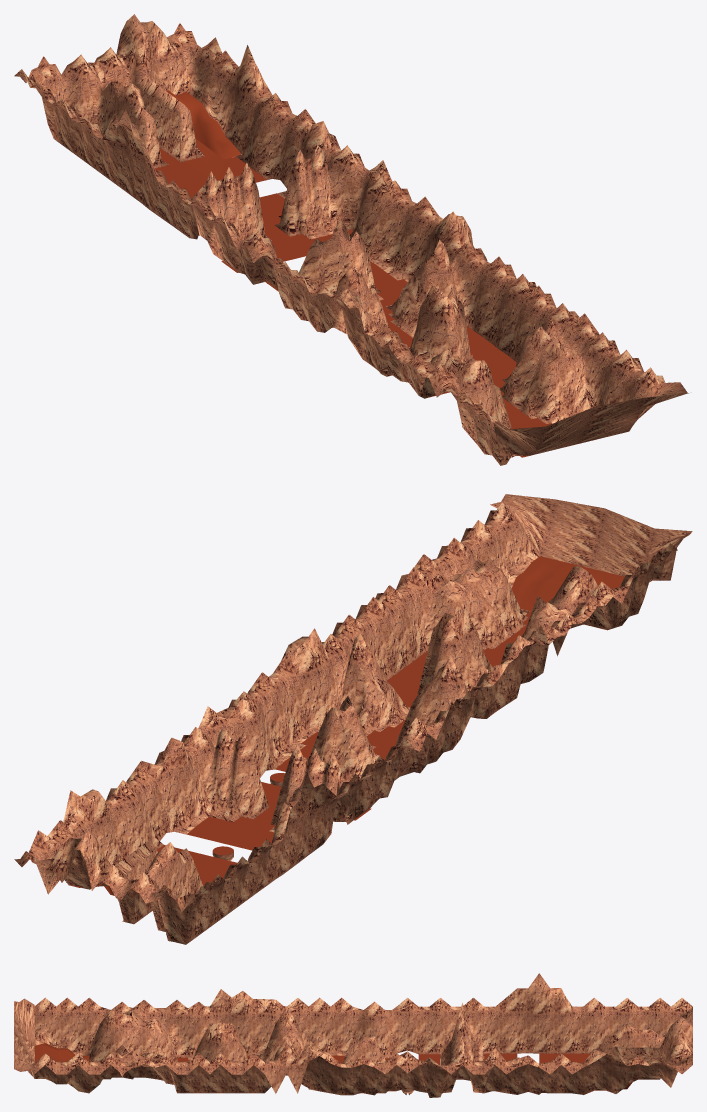
The picture shows the model from 3 angles, top to bottom: view 1: azimuth 30°, elevation 25°; view 2: azimuth 150°, elevation 25°; view 3: azimuth 270°, elevation 25°; orthographic projection. The views are drawn at different scales.
Visible parts, largest first — view 1: elevacionesMontañas, Plane002, Plane003, plat_final; view 2: elevacionesMontañas, Plane003, Plane002, terreno1; view 3: elevacionesMontañas, Plane003, Plane002, terreno1.
Boxes of the visible parts, x1=… form: elevacionesMontañas: x1=14, y1=14, x2=665, y2=465; Plane002: x1=155, y1=138, x2=552, y2=428; Plane003: x1=493, y1=382, x2=688, y2=456; plat_final: x1=166, y1=90, x2=241, y2=159; elevacionesMontañas: x1=14, y1=502, x2=677, y2=944; Plane003: x1=490, y1=494, x2=692, y2=580; Plane002: x1=122, y1=611, x2=531, y2=921; terreno1: x1=511, y1=556, x2=624, y2=630; elevacionesMontañas: x1=33, y1=973, x2=692, y2=1097; Plane003: x1=14, y1=998, x2=34, y2=1078; Plane002: x1=155, y1=1053, x2=590, y2=1093; terreno1: x1=35, y1=1043, x2=89, y2=1062.
Size of the model in its own units: 219 by 130 by 993.
